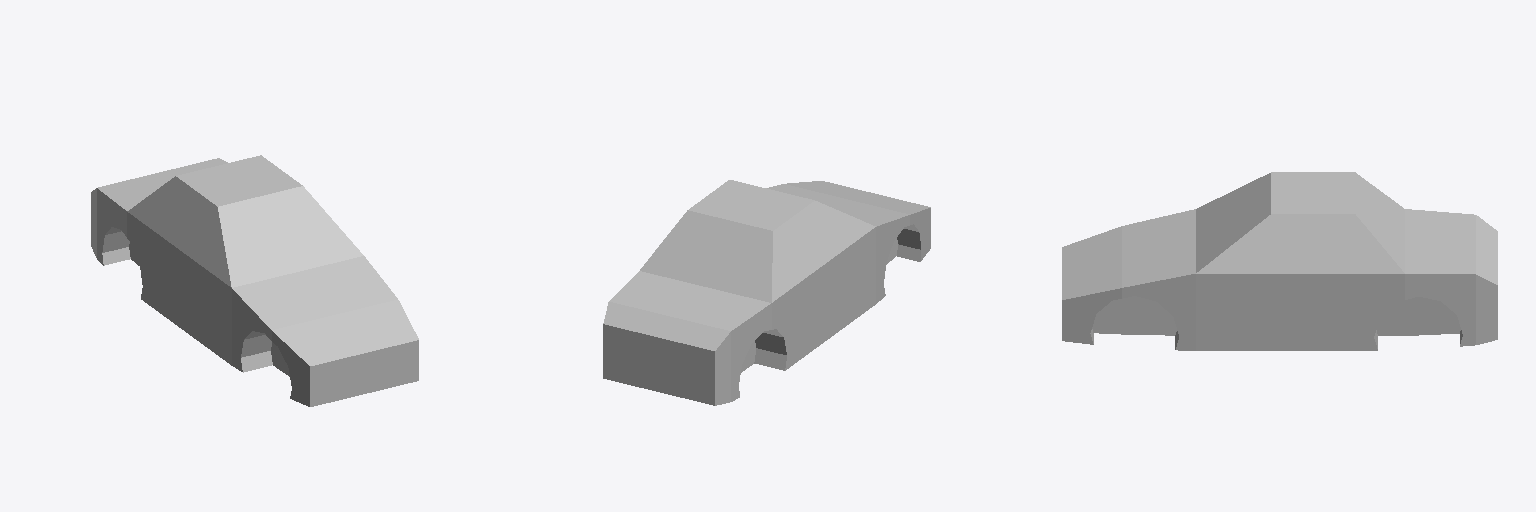
Rendered from Car.obj.
3 renders of one model, left to right at view 1: azimuth 30°, elevation 25°; view 2: azimuth 150°, elevation 25°; view 3: azimuth 270°, elevation 25°, orthographic.
Parts seen in each view (by area): view 1: Car.001_Cube.001, Car_Cube; view 2: Car.001_Cube.001, Car_Cube; view 3: Car.001_Cube.001, Car_Cube.
Boxes of the visible parts, x1,y1,x2,y2 form: Car.001_Cube.001: [91, 158, 418, 406]; Car_Cube: [102, 155, 418, 406]; Car.001_Cube.001: [603, 181, 930, 405]; Car_Cube: [640, 180, 920, 372]; Car.001_Cube.001: [1062, 209, 1497, 350]; Car_Cube: [1090, 172, 1462, 349].
Size of the model in its own units: 2 by 1.82 by 5.69.